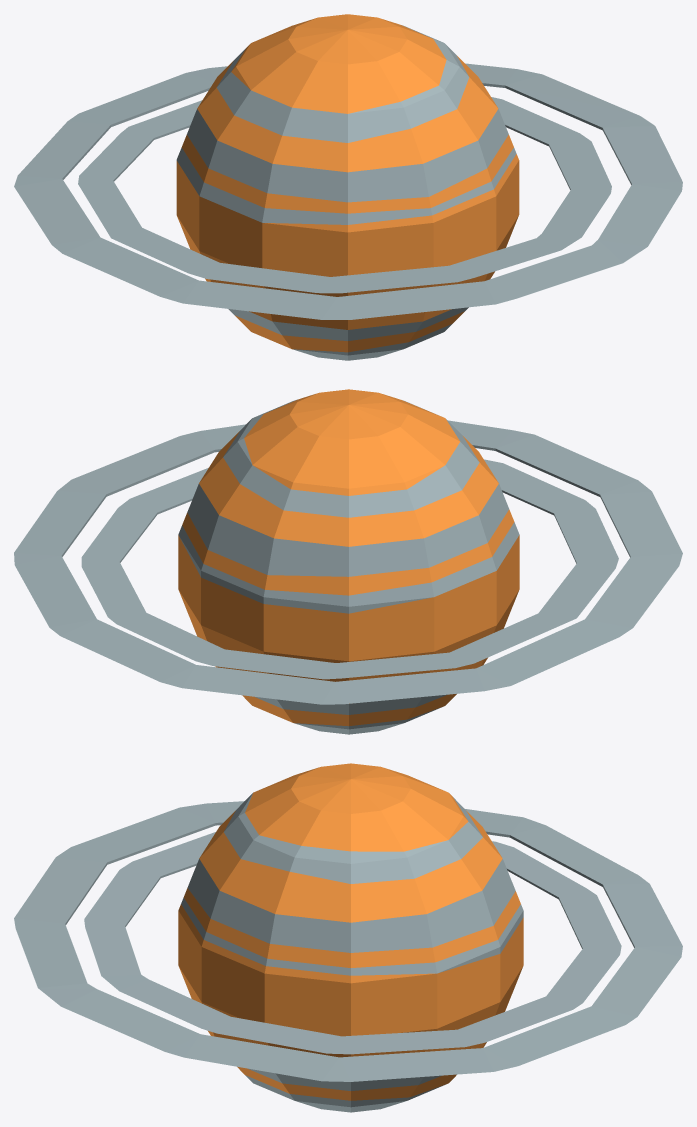
3 renders of one model, top to bottom at view 1: azimuth 30°, elevation 25°; view 2: azimuth 150°, elevation 25°; view 3: azimuth 270°, elevation 25°, orthographic.
Visible parts, largest first — view 1: group646701568, group2013386449, group292618952; view 2: group646701568, group2013386449, group292618952; view 3: group646701568, group2013386449, group292618952.
Part boxes in pixels (<box>): group646701568: <box>176,14,519,360</box>; group2013386449: <box>14,63,682,319</box>; group292618952: <box>78,97,611,293</box>; group646701568: <box>178,389,519,734</box>; group2013386449: <box>14,420,682,704</box>; group292618952: <box>81,459,618,679</box>; group646701568: <box>178,763,523,1112</box>; group2013386449: <box>14,801,682,1081</box>; group292618952: <box>84,832,621,1054</box>.
Bounding box in the file's own units: 2.67 × 1.39 × 2.65.
